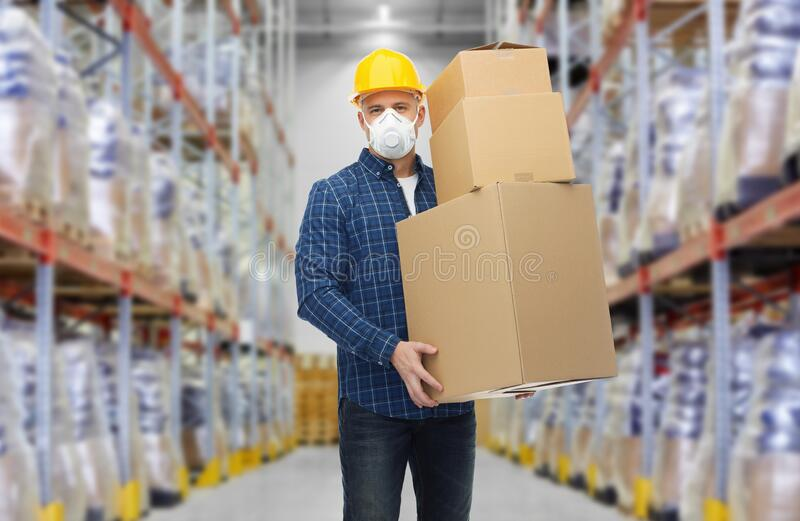hard-hat: (345, 45, 432, 106)
